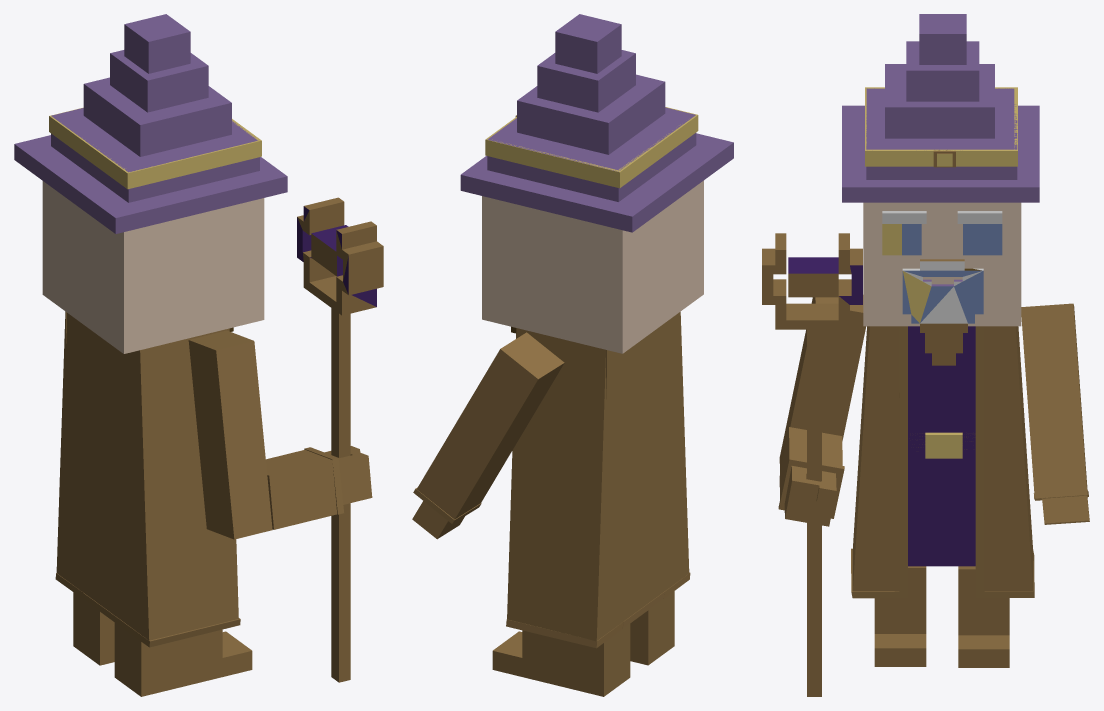
The model's file is emily.glb.
3 views of the same model, side by side, from view 1: azimuth 30°, elevation 25°; view 2: azimuth 150°, elevation 25°; view 3: azimuth 270°, elevation 25° (orthographic). The views are drawn at different scales.
Parts seen in each view (by area): view 1: Mesh_Mesh_head_geo.001_lambert2SG.001; view 2: Mesh_Mesh_head_geo.001_lambert2SG.001; view 3: Mesh_Mesh_head_geo.001_lambert2SG.001.
Part boxes in pixels (box(x1,y1,x2,y2)): Mesh_Mesh_head_geo.001_lambert2SG.001: box(14, 14, 383, 696); Mesh_Mesh_head_geo.001_lambert2SG.001: box(412, 14, 733, 696); Mesh_Mesh_head_geo.001_lambert2SG.001: box(762, 14, 1089, 696).
Size of the model in its own units: 14.01 by 36.34 by 17.56.
